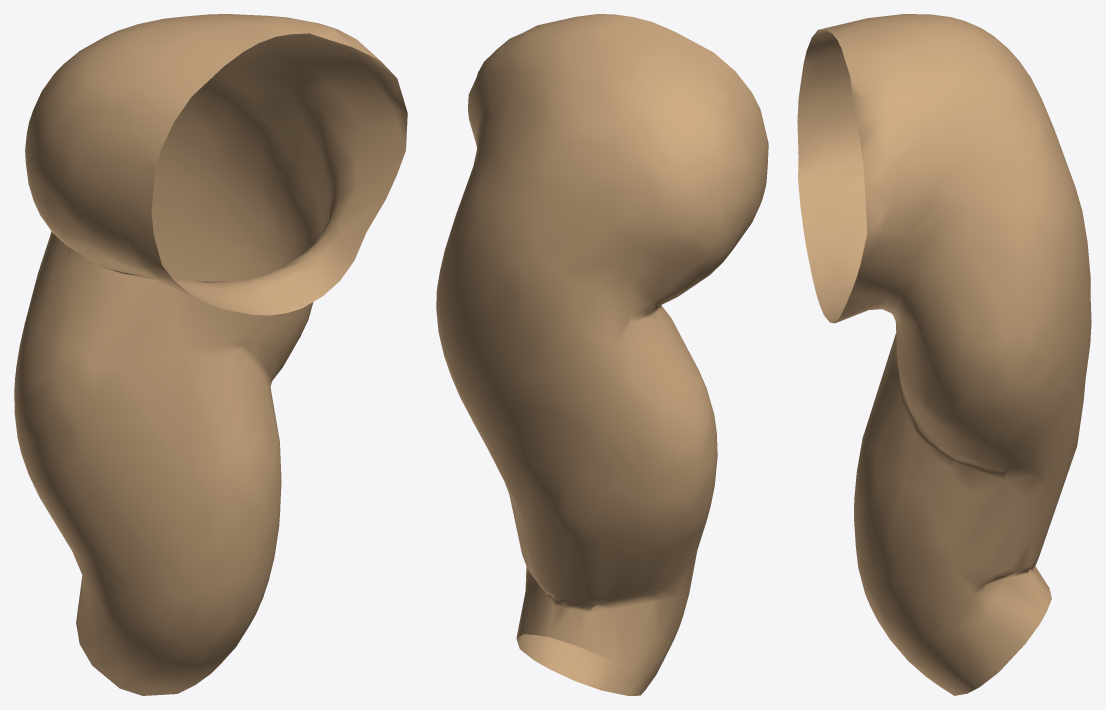
The model's file is colon_sigmoide.glb.
3 views of the same model, side by side, from view 1: azimuth 30°, elevation 25°; view 2: azimuth 150°, elevation 25°; view 3: azimuth 270°, elevation 25° (orthographic). The views are drawn at different scales.
Visible parts, largest first — view 1: colon_sigmoide; view 2: colon_sigmoide; view 3: colon_sigmoide.
Part boxes in pixels (x1,y1,x2,y2): colon_sigmoide: (14,14,407,695); colon_sigmoide: (436,14,768,695); colon_sigmoide: (797,14,1091,695).
Bounding box in the file's own units: 0.0616 × 0.1226 × 0.0494.
